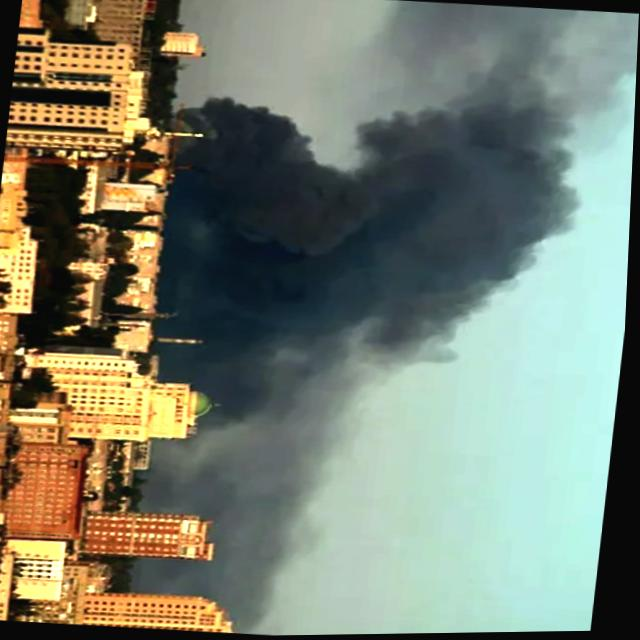no_helmet: (142, 78, 594, 473)
